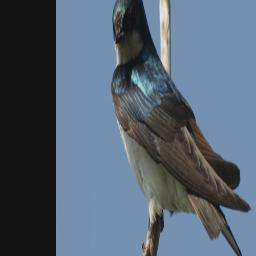Swallow: (111, 0, 252, 256)
